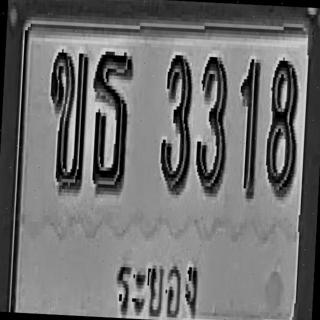A02: (45, 49, 89, 193)
A24: (88, 48, 135, 196)
N01: (235, 57, 261, 201)
N03: (194, 53, 231, 198), (158, 51, 195, 195)
N08: (264, 56, 301, 198)
P53: (110, 250, 208, 320)
